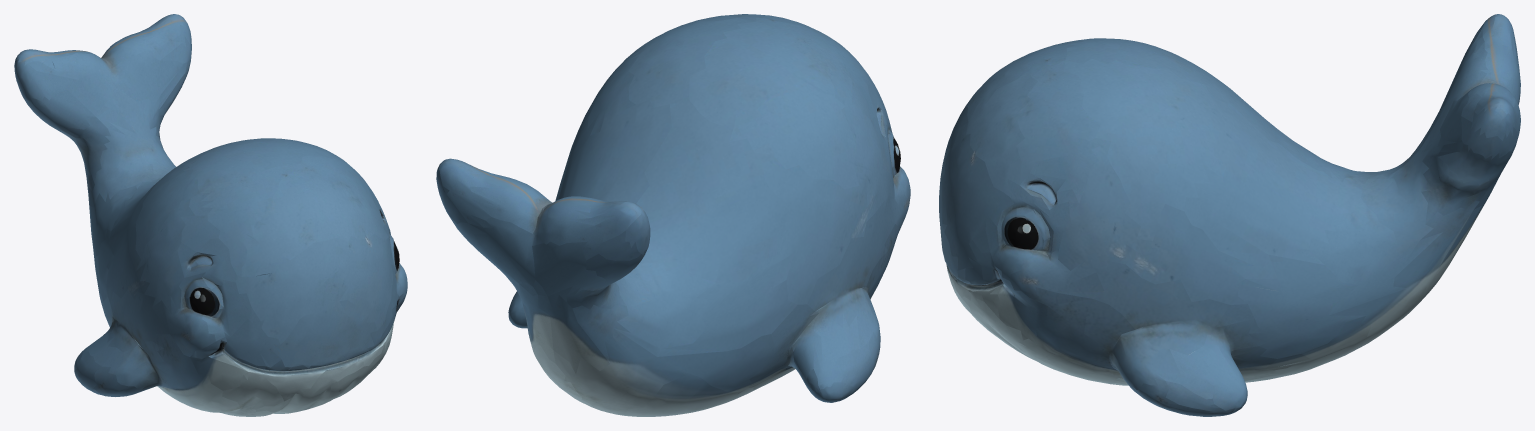
The model's file is balena_blu.glb.
The picture shows the model from 3 angles, left to right: view 1: azimuth 30°, elevation 25°; view 2: azimuth 150°, elevation 25°; view 3: azimuth 270°, elevation 25°; orthographic projection. The views are drawn at different scales.
Parts seen in each view (by area): view 1: Mesh_0; view 2: Mesh_0; view 3: Mesh_0.
Boxes of the visible parts, left/top/right/bottom form: Mesh_0: left=14, top=14, right=407, bottom=416; Mesh_0: left=436, top=14, right=910, bottom=416; Mesh_0: left=939, top=14, right=1520, bottom=416.
Bounding box in the file's own units: 1.28 × 1.08 × 1.9.
Materials: 1 (1 with a texture image).
